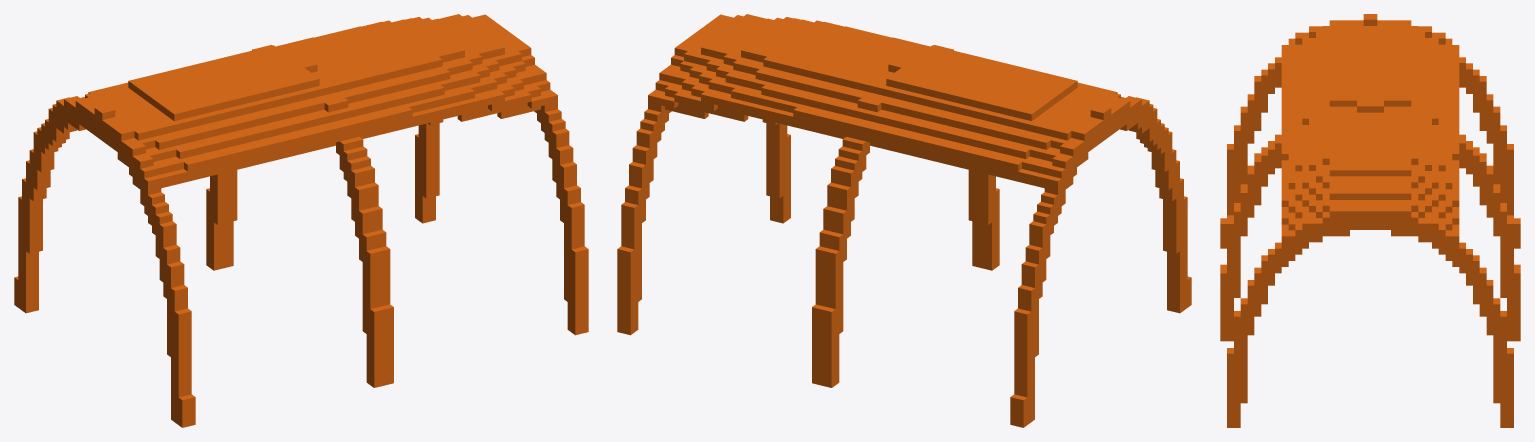
Rendered from news_helicopter_roof.glb.
The picture shows the model from 3 angles, left to right: view 1: azimuth 30°, elevation 25°; view 2: azimuth 150°, elevation 25°; view 3: azimuth 270°, elevation 25°; orthographic projection. The views are drawn at different scales.
Parts seen in each view (by area): view 1: body:compound; view 2: body:compound; view 3: body:compound.
Boxes of the visible parts, <box> form: body:compound: <box>14,14,588,427</box>; body:compound: <box>617,14,1191,427</box>; body:compound: <box>1220,14,1520,427</box>.
Size of the model in its own units: 1.94 by 1.19 by 1.38.
